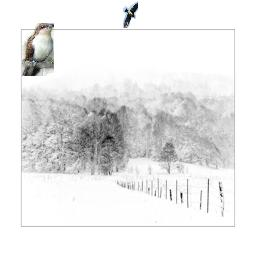Cuckoo: (22, 24, 54, 77)
Swallow: (124, 2, 139, 29)
